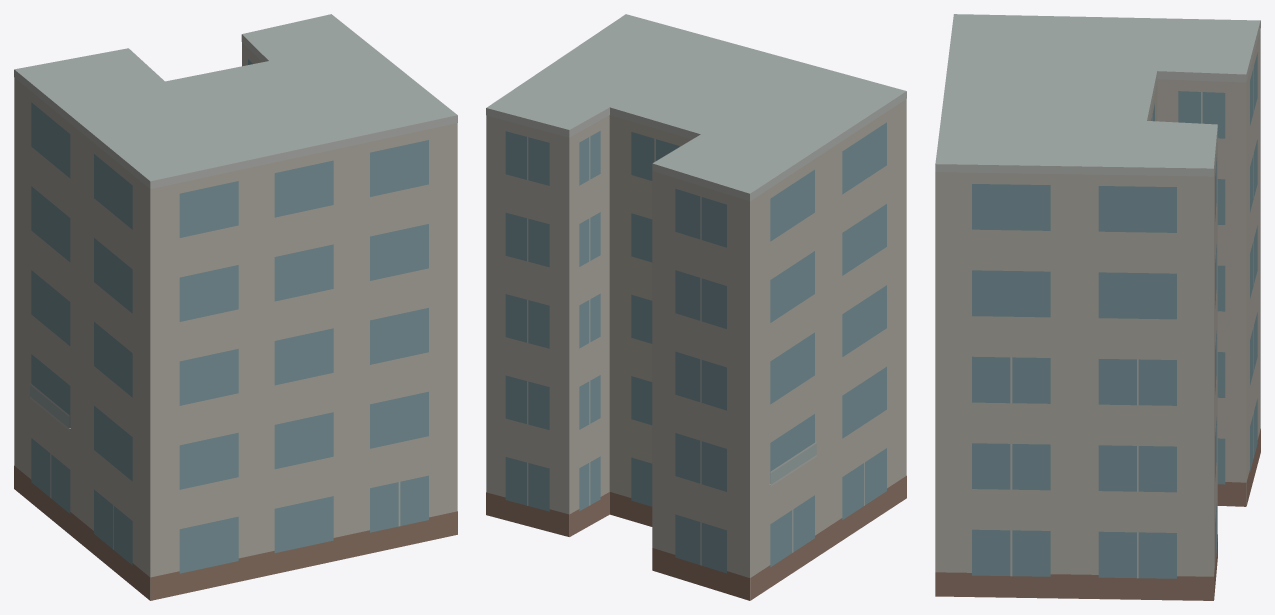
The model's file is survey-upis-32777459.glb.
3 renders of one model, left to right at view 1: azimuth 30°, elevation 25°; view 2: azimuth 150°, elevation 25°; view 3: azimuth 270°, elevation 25°, orthographic. The views are drawn at different scales.
Parts seen in each view (by area): view 1: survey-upis-32777459.tmp; view 2: survey-upis-32777459.tmp; view 3: survey-upis-32777459.tmp.
Boxes of the visible parts, <box> form: survey-upis-32777459.tmp: <box>14,14,457,600</box>; survey-upis-32777459.tmp: <box>486,14,906,600</box>; survey-upis-32777459.tmp: <box>935,14,1260,600</box>.
Size of the model in its own units: 10.09 by 13.15 by 8.98.
